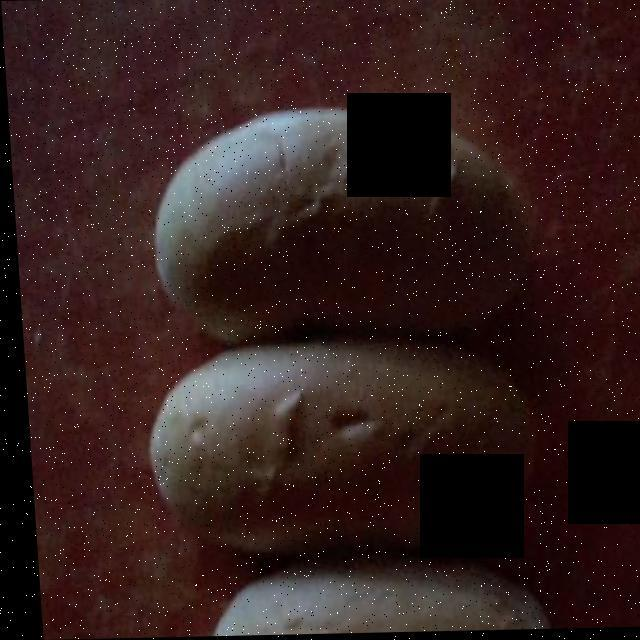potatoes: (143, 110, 531, 560)
